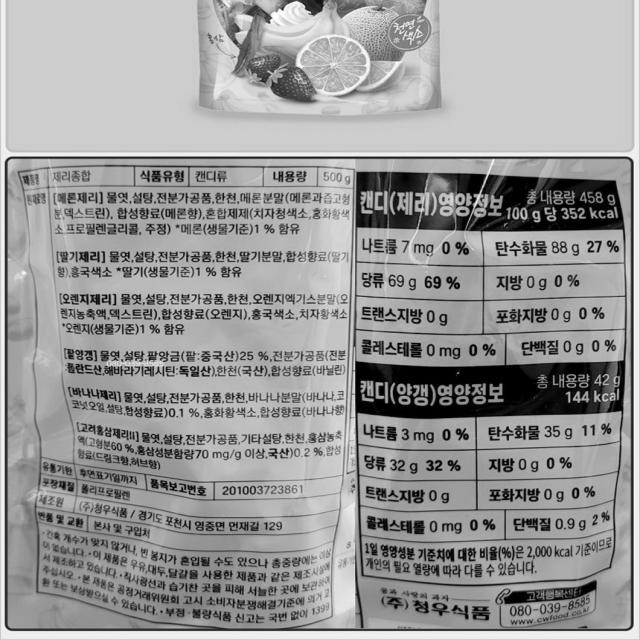Nutrition Label: (353, 168, 639, 369)
